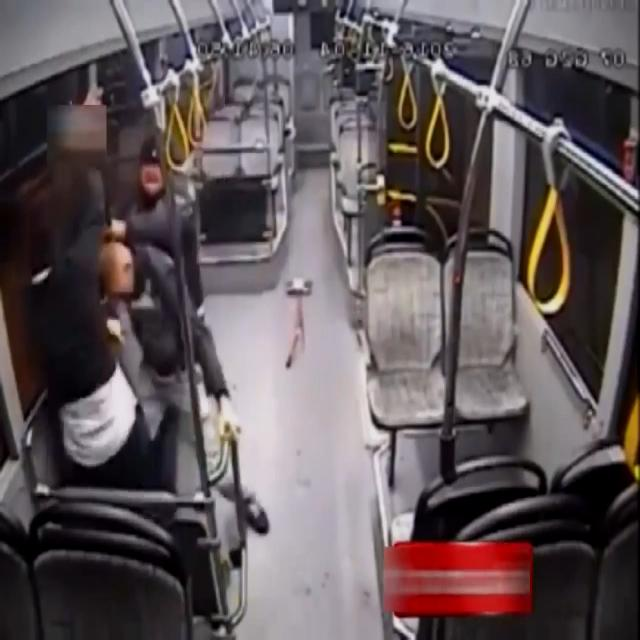fight: (18, 208, 166, 511), (98, 135, 206, 479)
